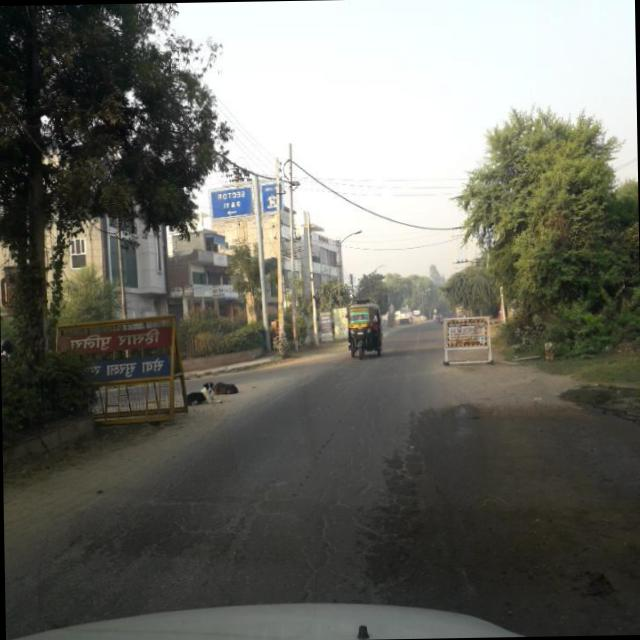crack: (46, 464, 401, 603)
